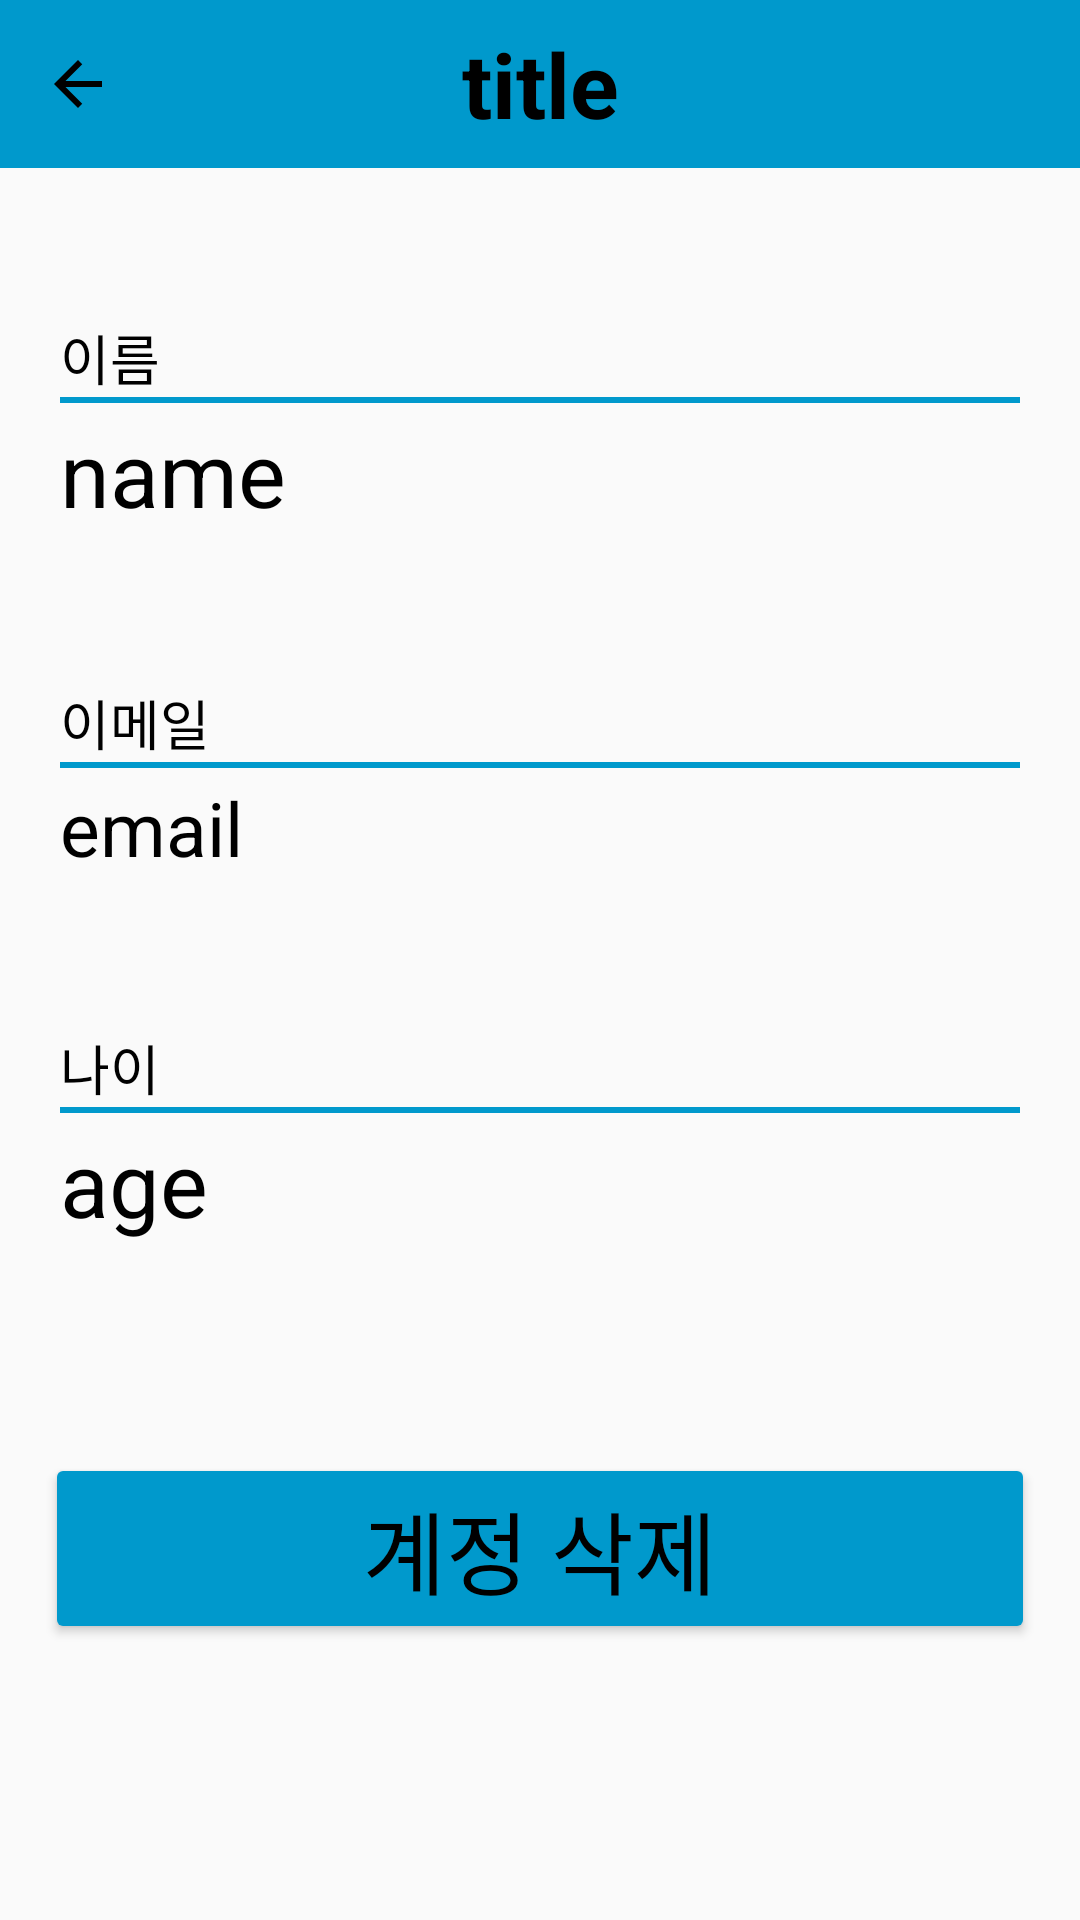

Icon click points for this 1080px×1920px phone screenshot, format [x,y]:
arrow back: [78,84]
